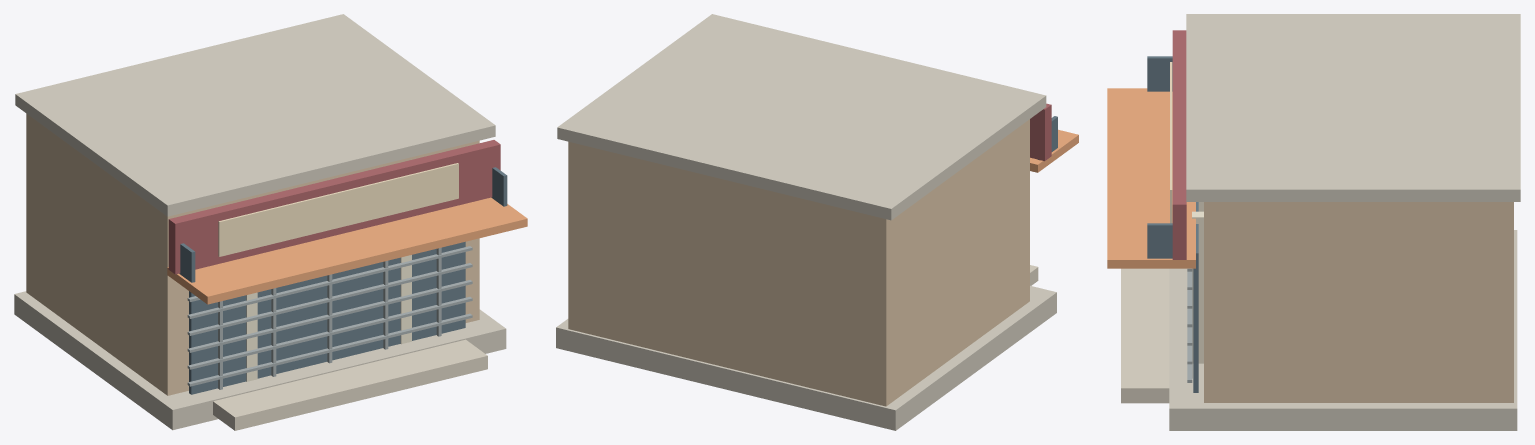
The model's file is corner_shop.glb.
3 views of the same model, side by side, from view 1: azimuth 30°, elevation 25°; view 2: azimuth 150°, elevation 25°; view 3: azimuth 270°, elevation 25° (orthographic). The views are drawn at different scales.
Visible parts, largest first — view 1: GEO-concrete roof, GEO-shop shell, GEO-shop recess, GEO-awning, GEO-raised plinth, GEO-shop fascia, GEO-shop step, GEO-blank cream name panel, GEO-shutter slat.004, GEO-shutter slat, GEO-shutter slat.001, GEO-shutter slat.002 (+5 smaller); view 2: GEO-shop shell, GEO-concrete roof, GEO-raised plinth, GEO-shop fascia, GEO-awning; view 3: GEO-concrete roof, GEO-shop shell, GEO-raised plinth, GEO-awning, GEO-shop step, GEO-shop fascia, GEO-shop pier.001, GEO-awning bracket.001, GEO-shop recess, GEO-awning bracket, GEO-blank cream name panel.
Part boxes in pixels (bbox=[...]): GEO-concrete roof: bbox=[15, 14, 495, 216]; GEO-shop shell: bbox=[26, 113, 479, 395]; GEO-shop recess: bbox=[189, 241, 465, 394]; GEO-awning: bbox=[167, 197, 527, 304]; GEO-raised plinth: bbox=[14, 291, 506, 430]; GEO-shop fascia: bbox=[168, 140, 500, 274]; GEO-shop step: bbox=[213, 339, 487, 430]; GEO-blank cream name panel: bbox=[218, 163, 458, 256]; GEO-shutter slat.004: bbox=[187, 246, 472, 318]; GEO-shutter slat: bbox=[187, 313, 472, 386]; GEO-shutter slat.001: bbox=[187, 297, 472, 369]; GEO-shutter slat.002: bbox=[187, 280, 472, 352]; GEO-shop shell: bbox=[568, 119, 1029, 406]; GEO-concrete roof: bbox=[557, 14, 1046, 220]; GEO-raised plinth: bbox=[556, 285, 1056, 430]; GEO-shop fascia: bbox=[1030, 103, 1051, 161]; GEO-awning: bbox=[1030, 129, 1078, 172]; GEO-concrete roof: bbox=[1186, 14, 1520, 201]; GEO-shop shell: bbox=[1204, 202, 1513, 402]; GEO-raised plinth: bbox=[1169, 230, 1517, 430]; GEO-awning: bbox=[1107, 88, 1195, 268]; GEO-shop step: bbox=[1121, 268, 1169, 403]; GEO-shop fascia: bbox=[1172, 30, 1186, 259]; GEO-shop pier.001: bbox=[1192, 211, 1203, 363]; GEO-awning bracket.001: bbox=[1147, 223, 1172, 258]; GEO-shop recess: bbox=[1193, 202, 1198, 392]; GEO-awning bracket: bbox=[1147, 56, 1172, 91]; GEO-blank cream name panel: bbox=[1170, 62, 1172, 223].
Size of the model in its own units: 6.2 by 3.88 by 6.06.
